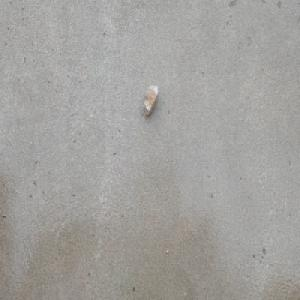Rock: (143, 84, 160, 118)
